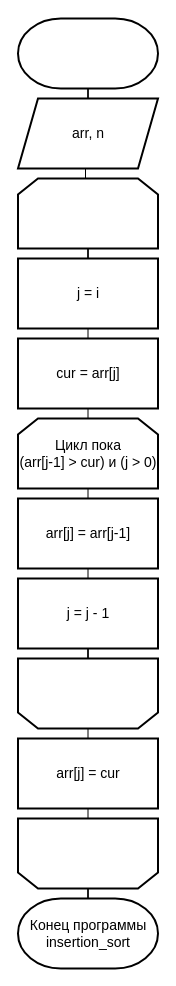
The diagram is 176 pixels wide and 986 high, and some of its shapes have lost their labels. The centre of each missing label's shape, as x and y in pixels:
"Конец цикла по i от 1 до n" belongs at (87,853).
"Конец цикла пока (arr[j-1] > cur) и (j > 0)" belongs at (87,693).
"Начало программы insertion_sort" belongs at (87,53).
"Цикл по i от 1 до n" belongs at (87,213).
